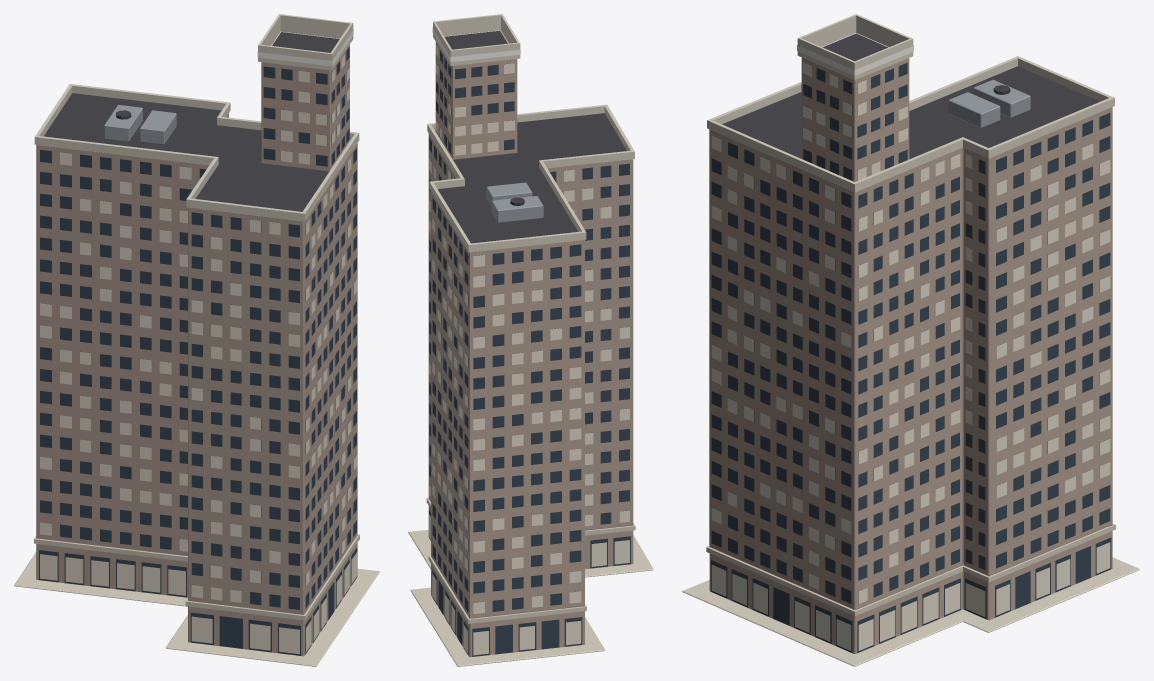
File: 33-new-montgomery-street.glb
3 views of the same model, side by side, from view 1: azimuth 30°, elevation 25°; view 2: azimuth 150°, elevation 25°; view 3: azimuth 270°, elevation 25° (orthographic). The views are drawn at different scales.
Visible parts, largest first — view 1: 33-new-montgomery-street_body, 33-new-montgomery-street_night_glow; view 2: 33-new-montgomery-street_body, 33-new-montgomery-street_night_glow; view 3: 33-new-montgomery-street_body, 33-new-montgomery-street_night_glow.
Boxes of the visible parts, x1,y1,x2,y2 form: 33-new-montgomery-street_body: (14,14,379,666); 33-new-montgomery-street_night_glow: (40,29,357,654); 33-new-montgomery-street_body: (408,14,653,666); 33-new-montgomery-street_night_glow: (429,27,629,655); 33-new-montgomery-street_body: (682,14,1139,666); 33-new-montgomery-street_night_glow: (711,45,1110,650).
Bounding box in the file's own units: 55.27 × 102 × 71.51.
